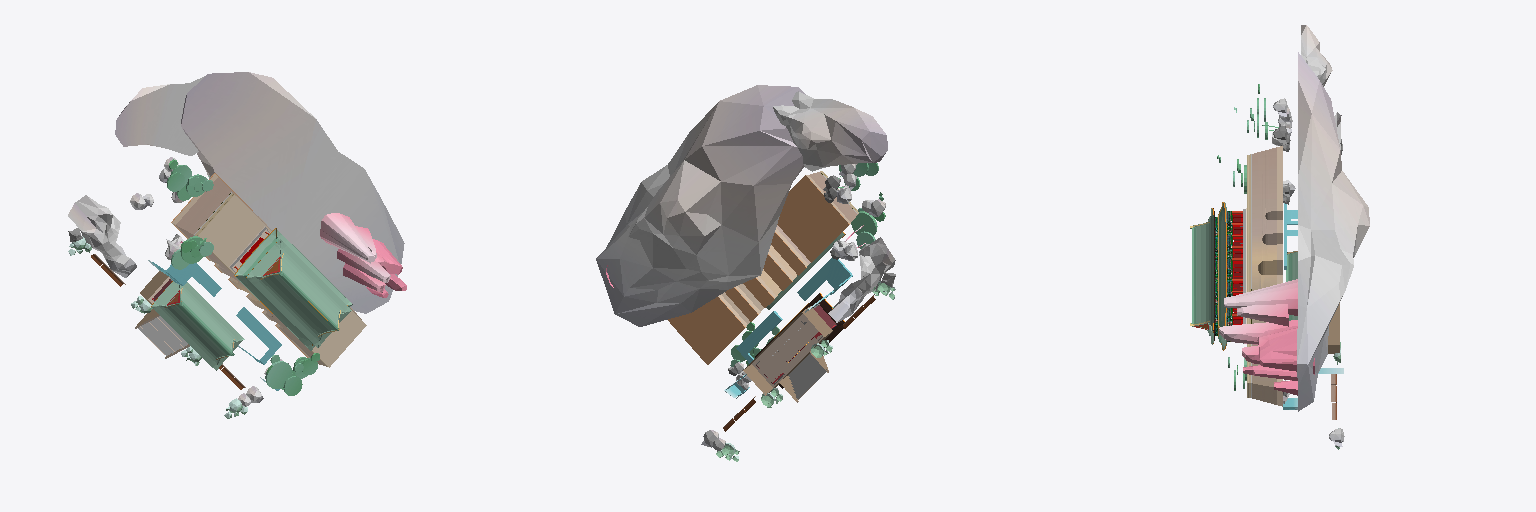
The picture shows the model from 3 angles: view 1: azimuth 30°, elevation 25°; view 2: azimuth 150°, elevation 25°; view 3: azimuth 270°, elevation 25°; orthographic projection.
Size of the model in its own units: 63.85 by 71.52 by 31.51.
50 materials, 11 textured.